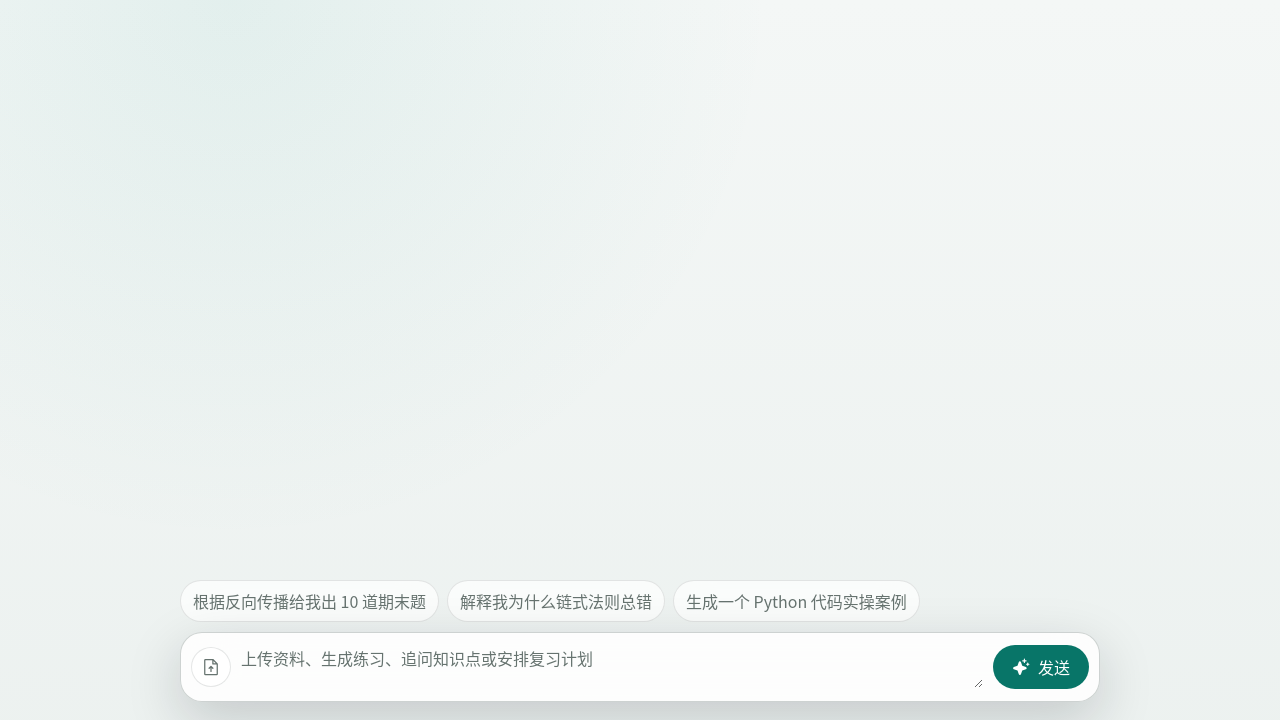
CommandBar › records commands without showing global feedback bars
The width and height of the screenshot is (1280, 720).
Click the button "发送": (1041, 667) 993,645 -> 1089,689
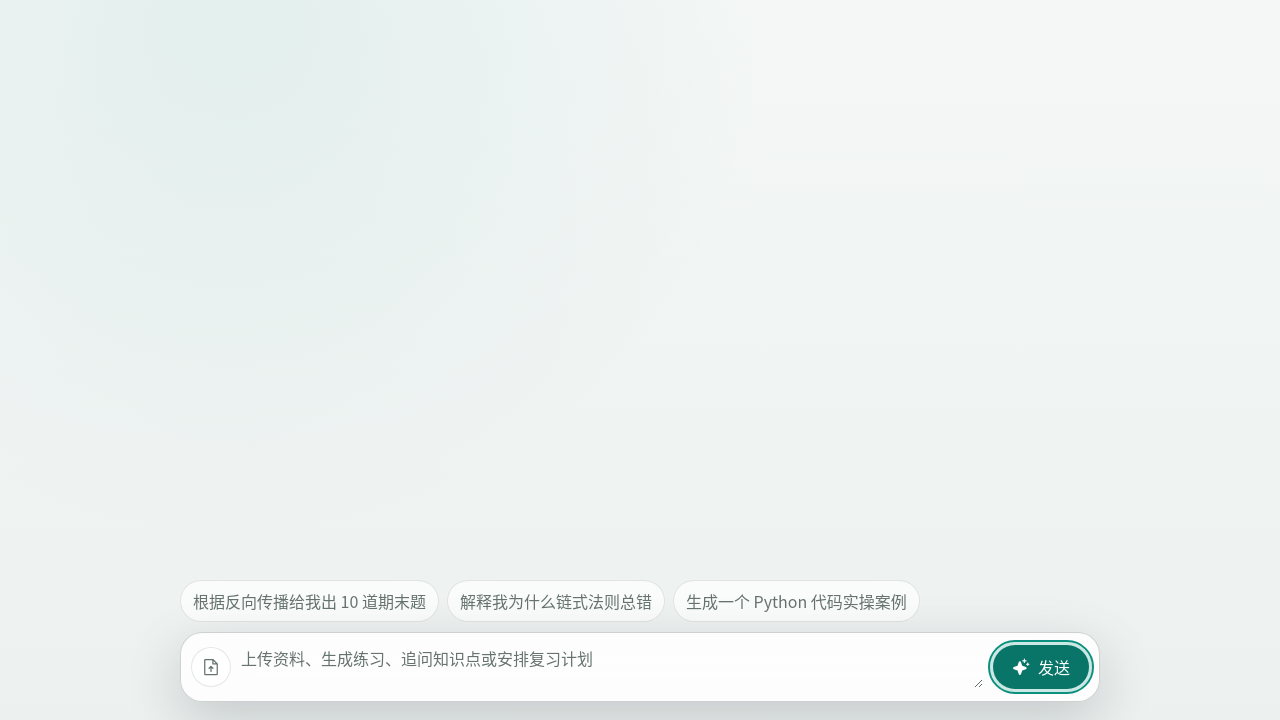
Click the button "根据反向传播给我出 10 道期末题": (309, 601) 180,580 -> 439,622
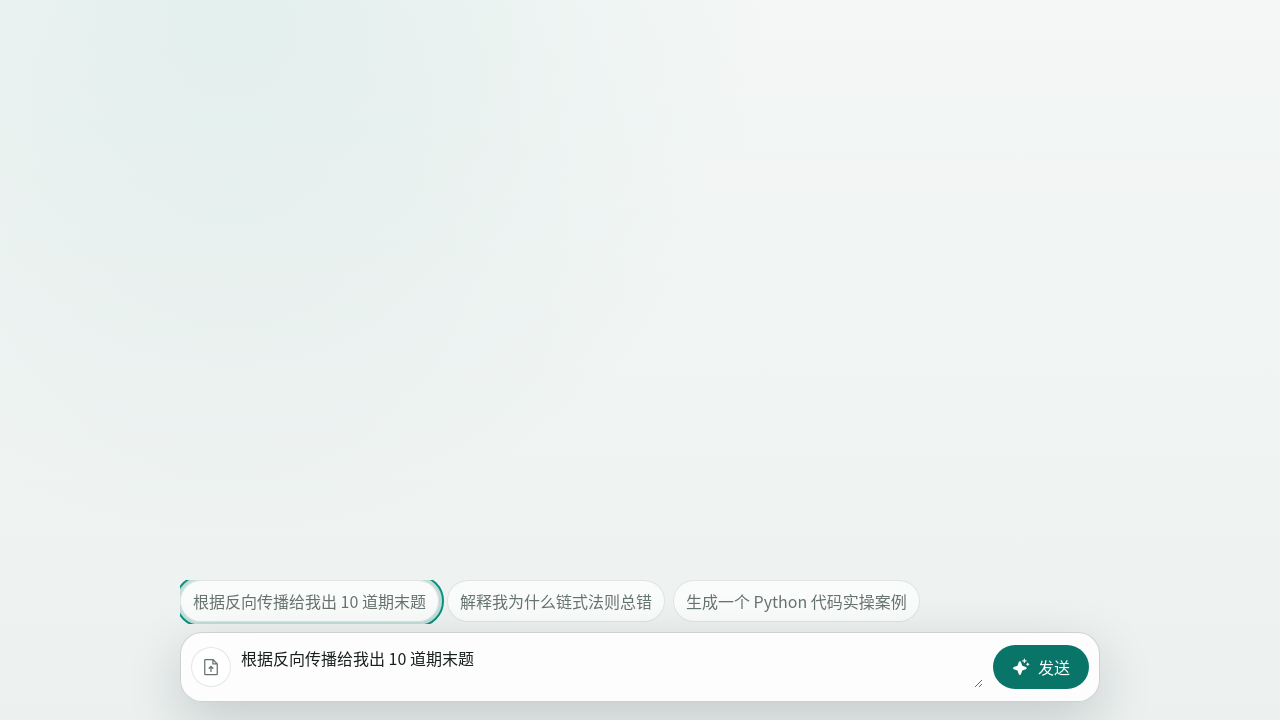
Click the button "发送": (1041, 667) 993,645 -> 1089,689
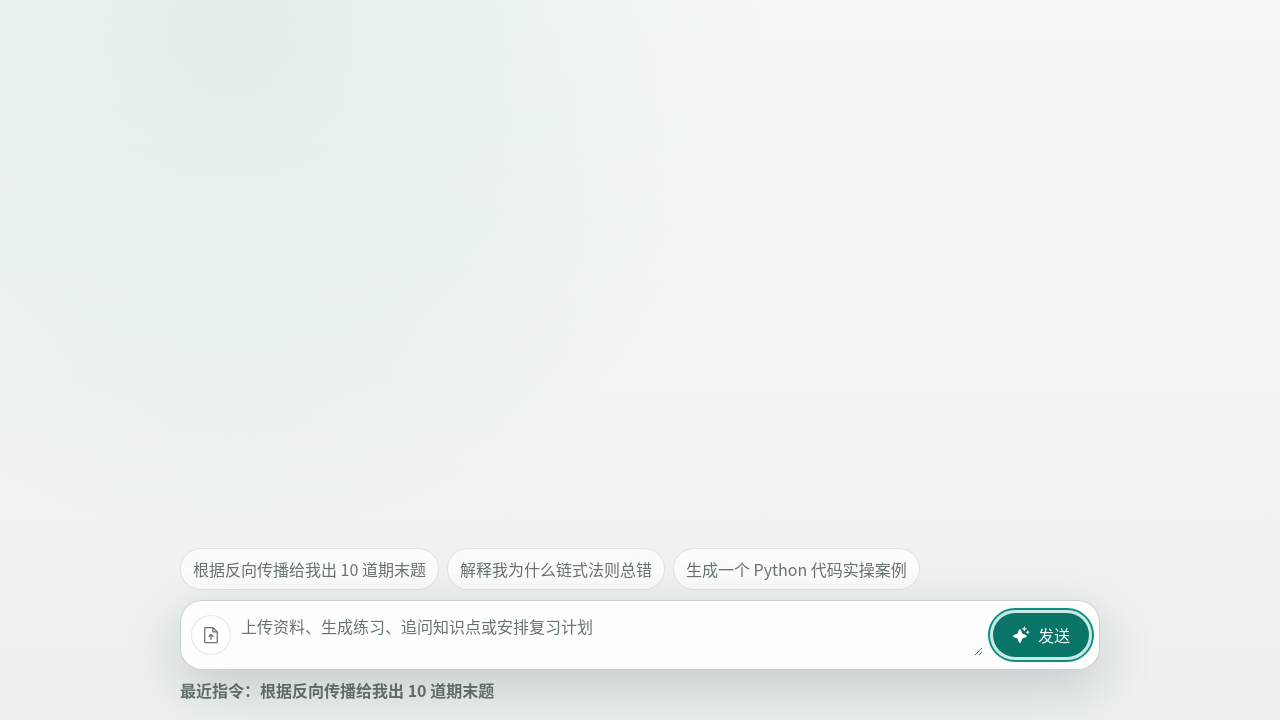
Check: the text "最近指令：根据反向传播给我出 10 道期末题" is shown, box 180,678 -> 494,702
